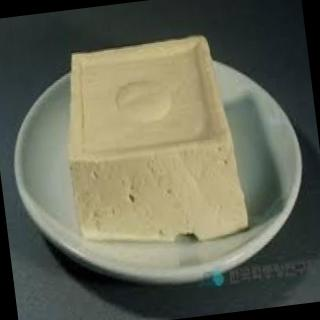Tahu: (57, 28, 265, 255)
